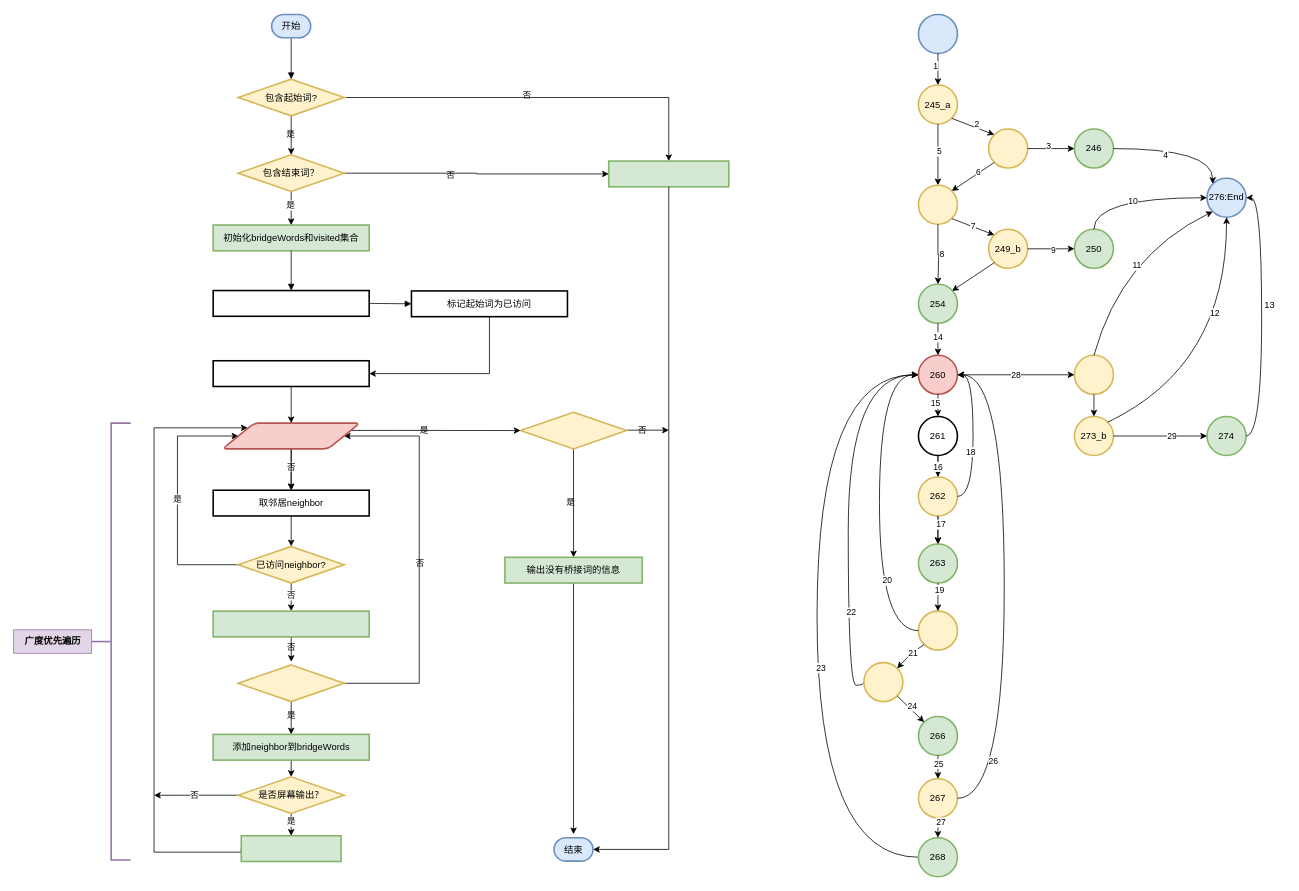
The diagram is 1299 pixels wide and 891 high, and some of its shapes have lost their labels. The shapes that lost their labels are listed below. From the top down, each one's centre as x and y in pixels, then its label:
(937,33): 244:Start
(1007,148): 245_b
(668,173): 输出提示并返回null
(937,204): 249_a
(291,303): 初始化queue并将起始词入队
(291,373): 取出队首元素current
(1093,374): 273_a
(290,435): 遍历邻居
(573,430): 桥接词集合为空?
(291,623): 标记neighbor为已访问并入队
(937,630): 265_a
(291,683): 包含结束词?
(883,681): 265_b
(290,848): 输出桥接词信息
